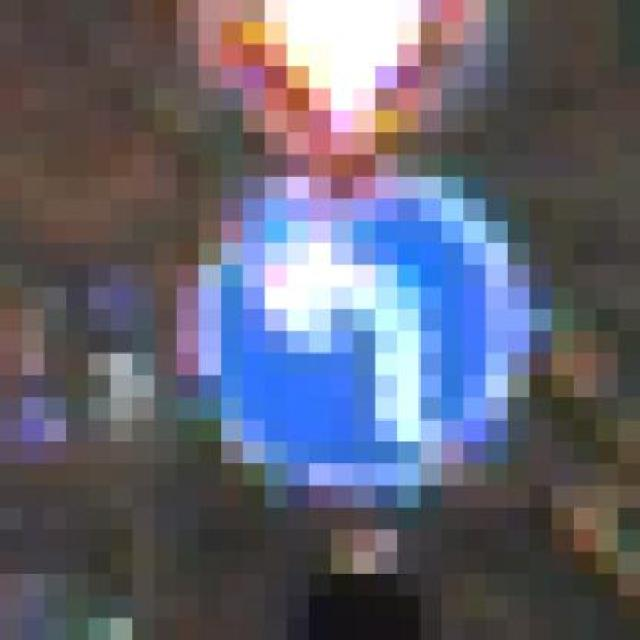Turn left ahead: (132, 177, 552, 508)
